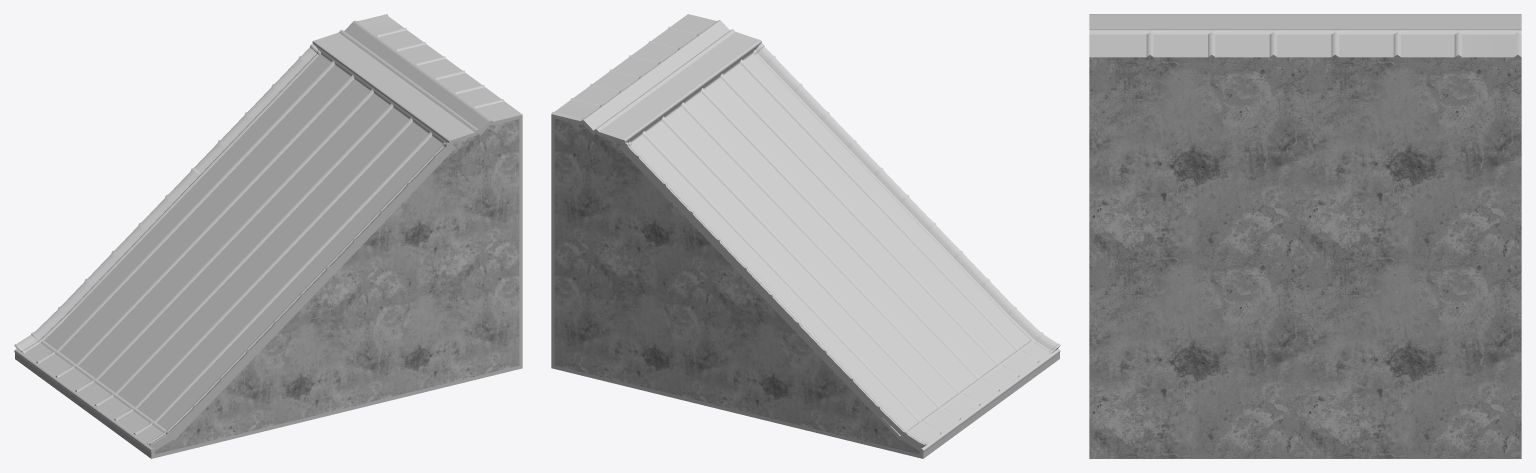
The model's file is SM_Roof_01a.fbx.
3 views of the same model, side by side, from view 1: azimuth 30°, elevation 25°; view 2: azimuth 150°, elevation 25°; view 3: azimuth 270°, elevation 25° (orthographic). The views are drawn at different scales.
Parts seen in each view (by area): view 1: SM_Roof_01a_LOD0; view 2: SM_Roof_01a_LOD0; view 3: SM_Roof_01a_LOD0.
Boxes of the visible parts, x1,y1,x2,y2 form: SM_Roof_01a_LOD0: [14, 14, 522, 458]; SM_Roof_01a_LOD0: [551, 14, 1060, 458]; SM_Roof_01a_LOD0: [1089, 14, 1521, 458].
Bounding box in the file's own units: 1258 × 800 × 825.
